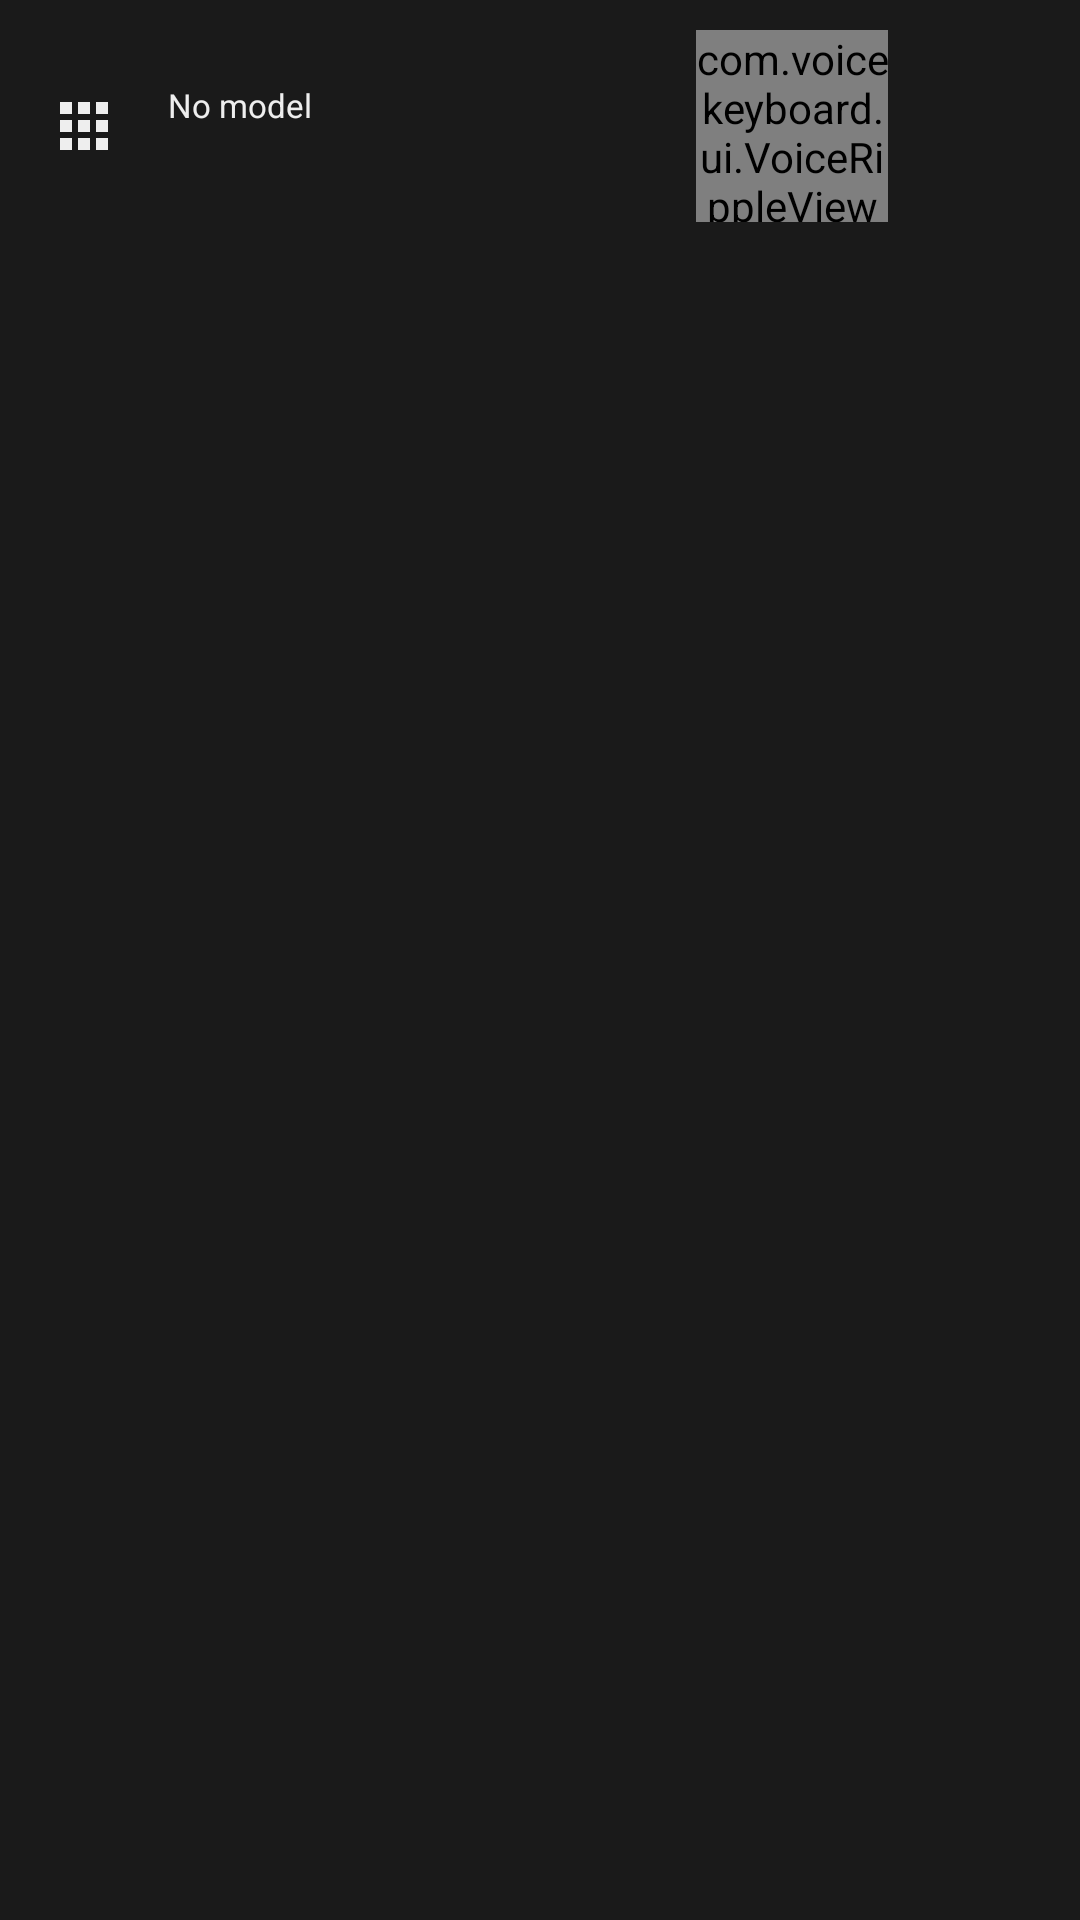

Screen size 1080px x 1920px. Icon name, then its center in pixels as [x,y]:
Model gallery: [84,126]
